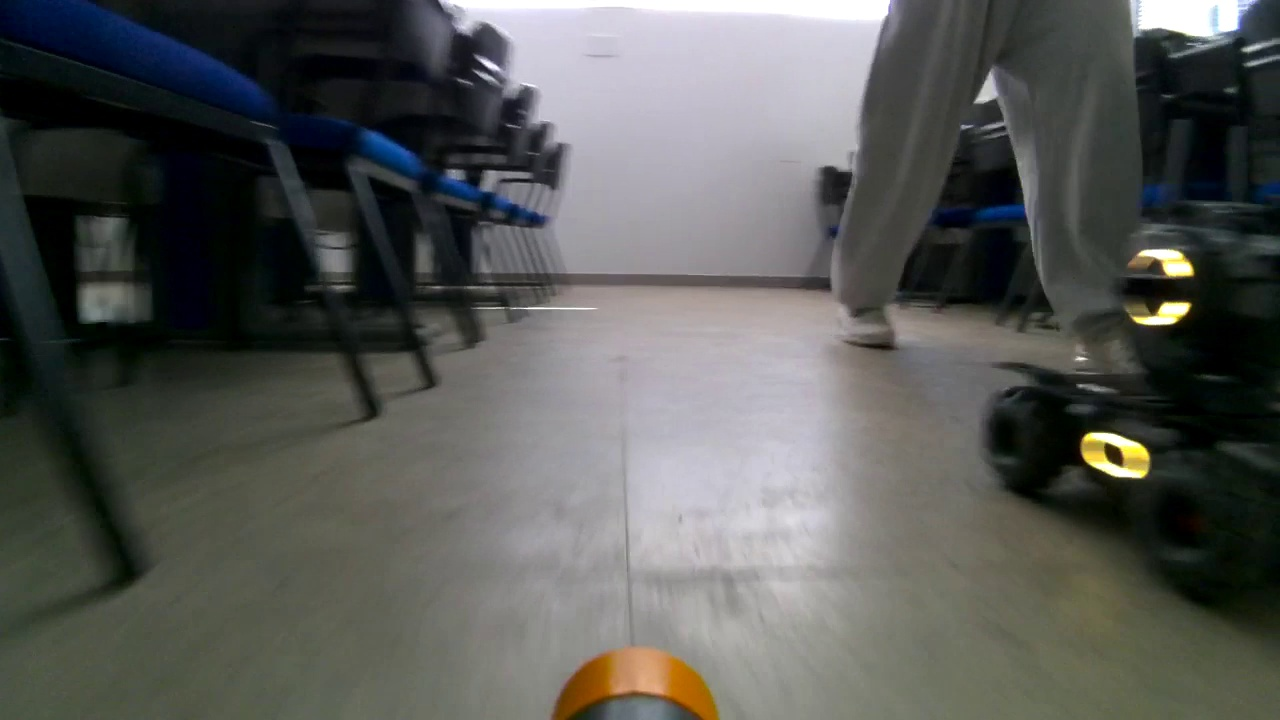robot: (967, 118, 1280, 623)
